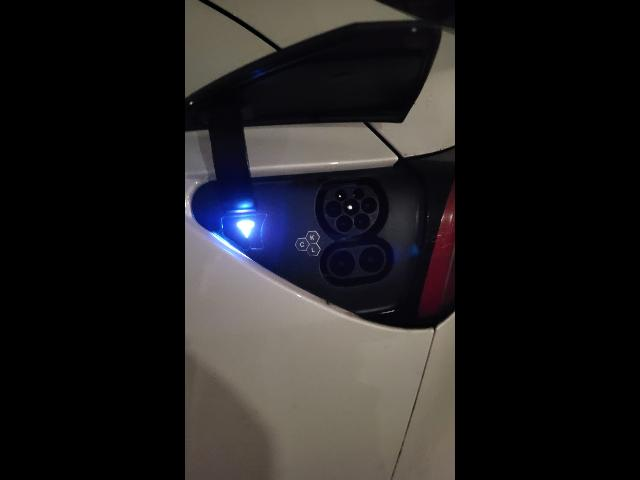inlet: (323, 185, 379, 235)
inlet-above-left: (335, 189, 347, 201)
inlet-above-right: (352, 187, 365, 200)
inlet-below-left: (336, 215, 353, 232)
inlet-below-right: (354, 213, 370, 230)
inlet-circle: (343, 199, 360, 215)
inlet-circle-left: (325, 200, 342, 217)
inlet-circle-right: (361, 197, 378, 214)
inlet-minus: (359, 247, 384, 272)
inlet-plus: (329, 250, 356, 277)
